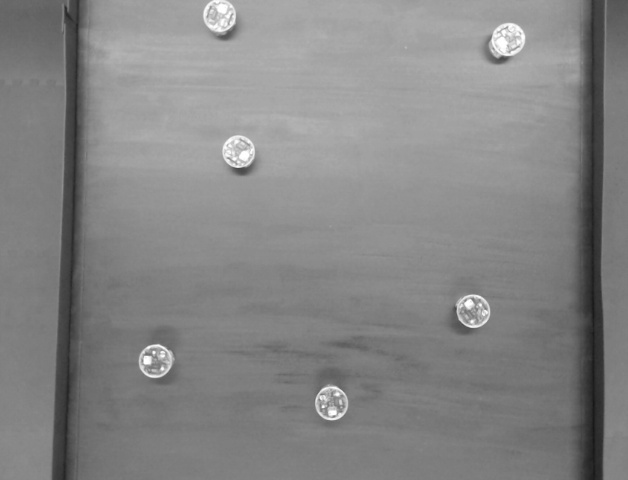epuck_2: (211, 130, 269, 174), (195, 1, 253, 40), (311, 381, 354, 426), (137, 338, 177, 385), (455, 289, 497, 333), (484, 21, 528, 62)
